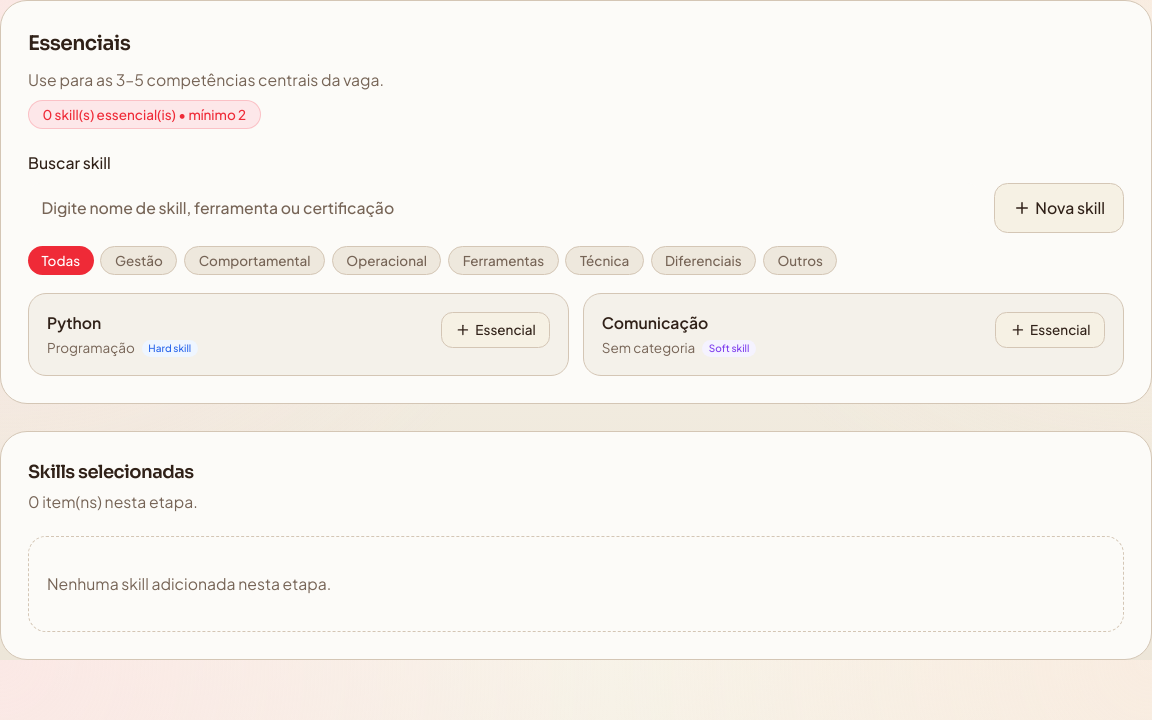
Test: job skill steps › chip Técnica filtra apenas skills com catalog_type hard_skill
Expected: the text "Python" is shown, [47,313,101,332]
Expected: the text "Comunicação" is shown, [602,313,708,332]
Click the button "Técnica". click: (605, 260)
box: [565,246,644,275]
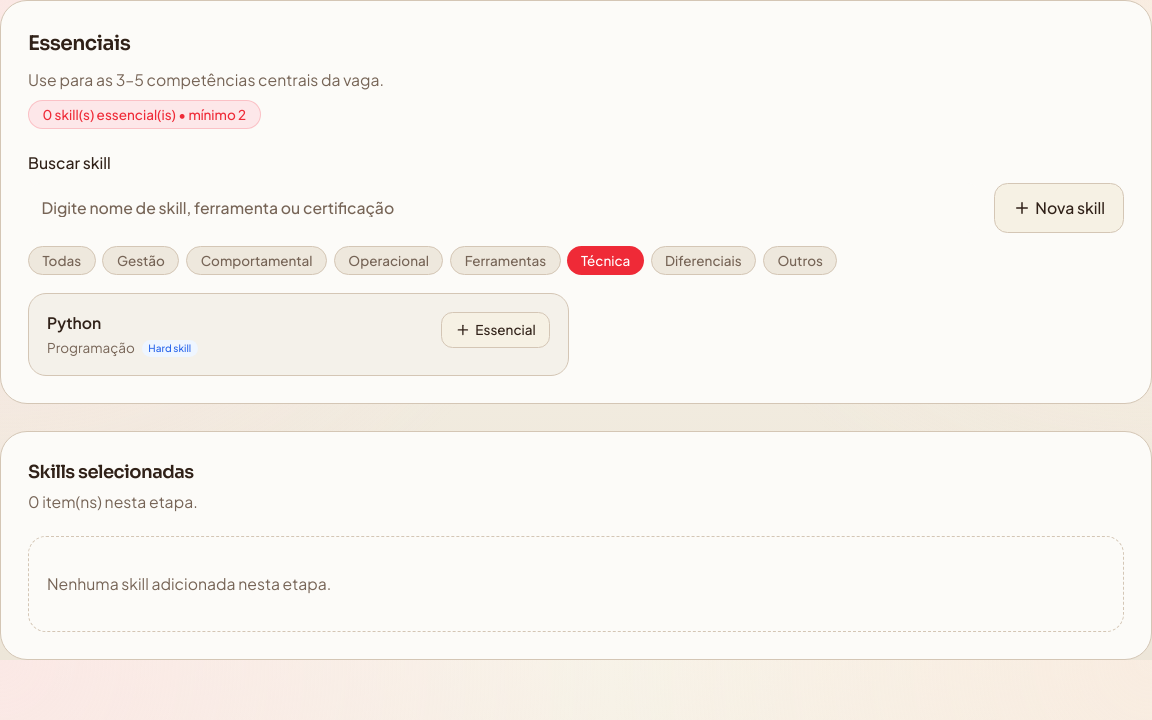
Expected: the text "Python" is shown, [47,313,101,332]
Expected: the text "Comunicação" is gone
